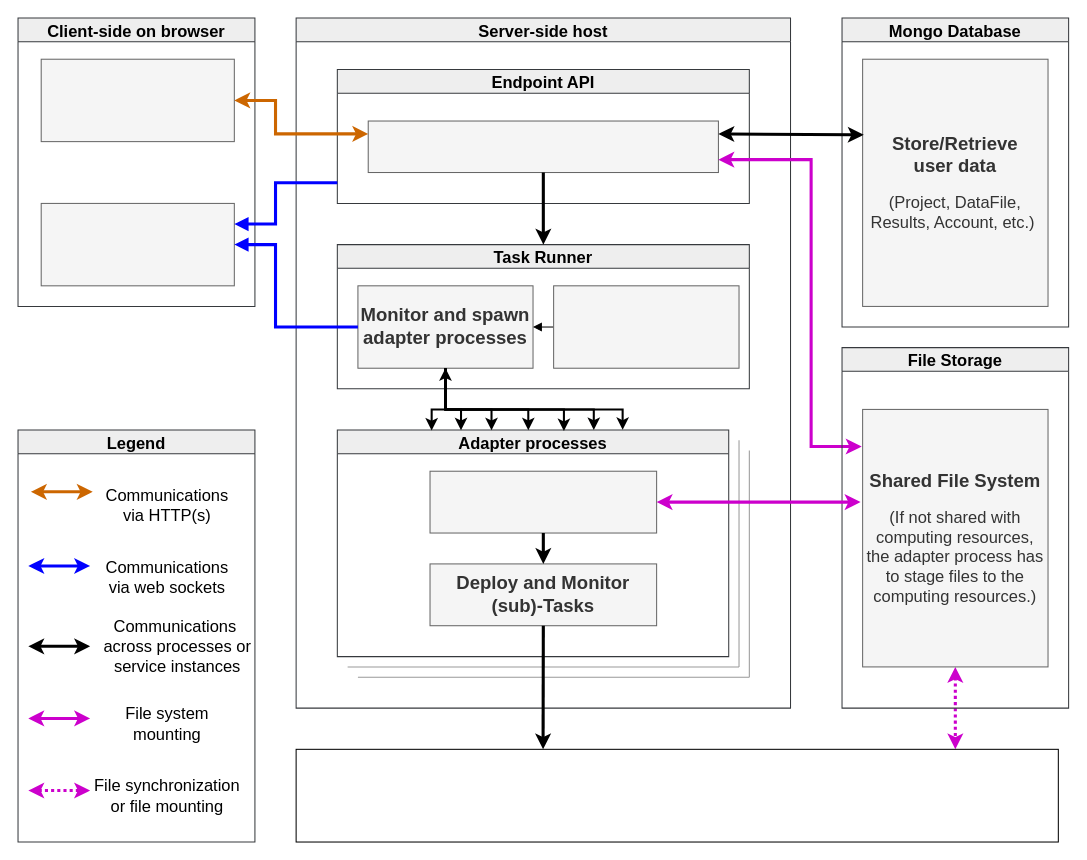
This 1087x860 diagram has some shape labels left out. Here are the shapes that lost their labels. From the top down, the centre of each, then its label:
At (137,100): "User/Developer behaviors".
At (542,146): "Handle requests from clients".
At (137,244): "Receiving updates from server in real-time".
At (646,326): "A global queue to control #adapter processes".
At (543,501): "Parse Workflow Playbook by Task Reader".
At (676,795): "Remote or Local Computing Resources".
